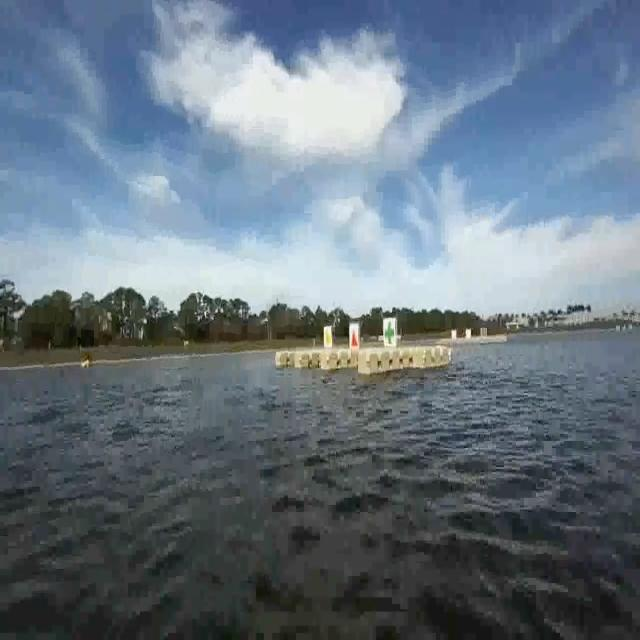blue-cross: (384, 319, 396, 346)
red-dot: (350, 324, 359, 352)
yellow-duck: (323, 326, 333, 351)
